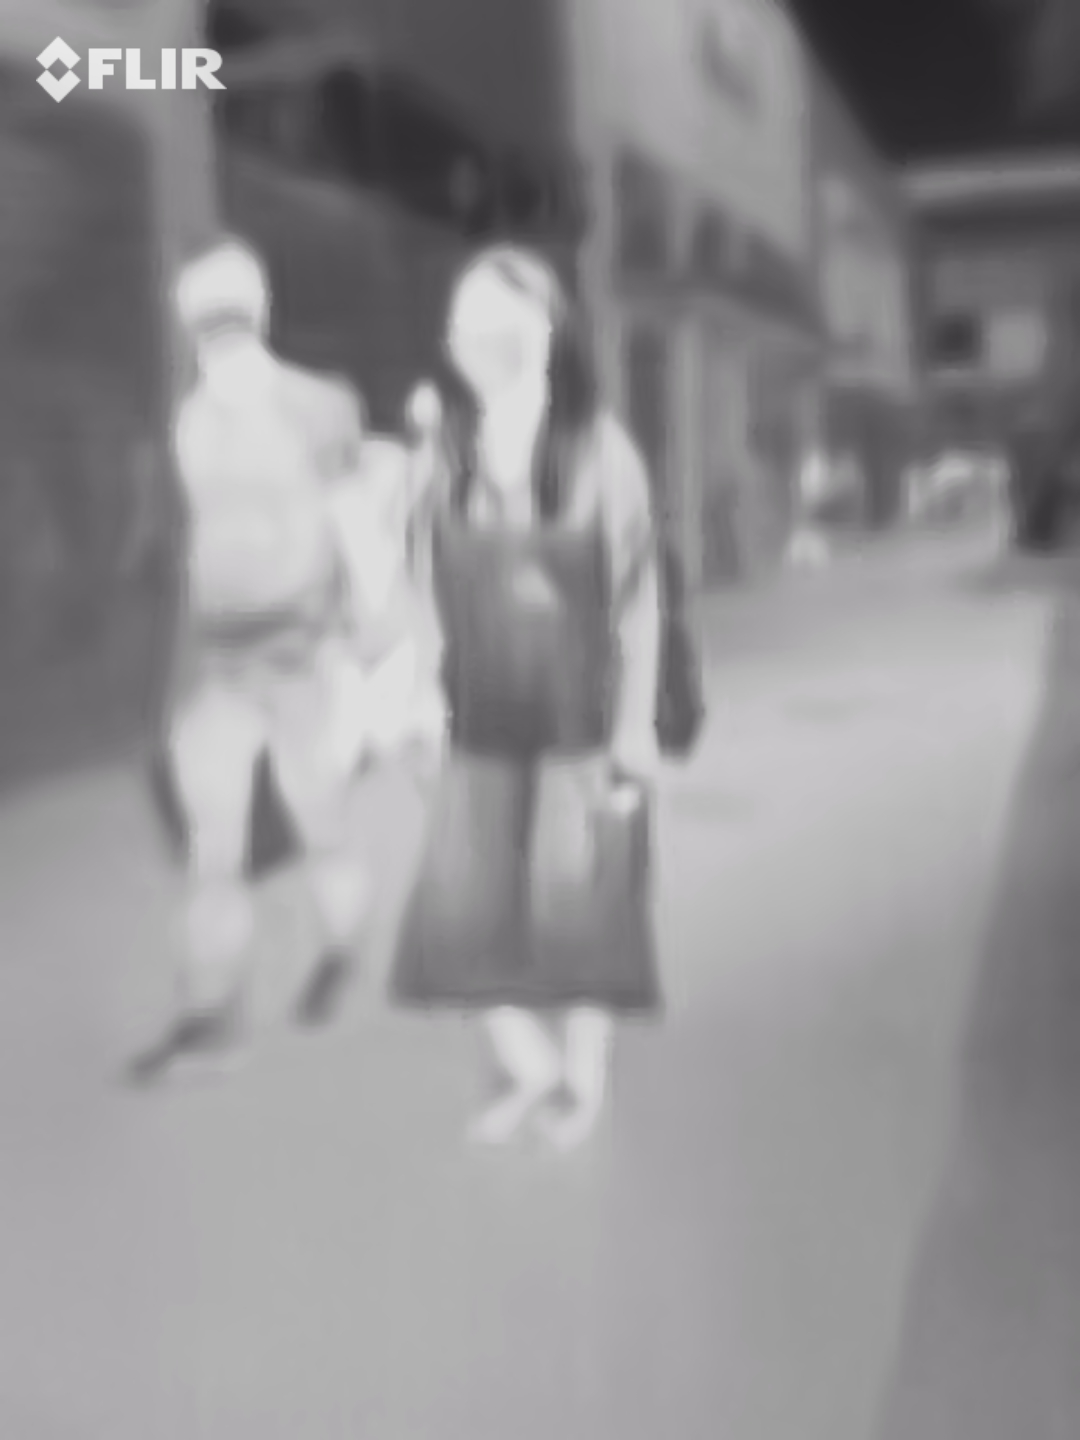head: (438, 245, 571, 412), (163, 245, 279, 357)
